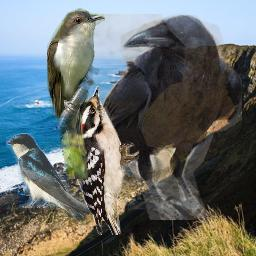Crow: (73, 14, 242, 220)
Cuckoo: (47, 5, 105, 179)
Swallow: (6, 133, 97, 221)
Woodpecker: (70, 86, 139, 235)
